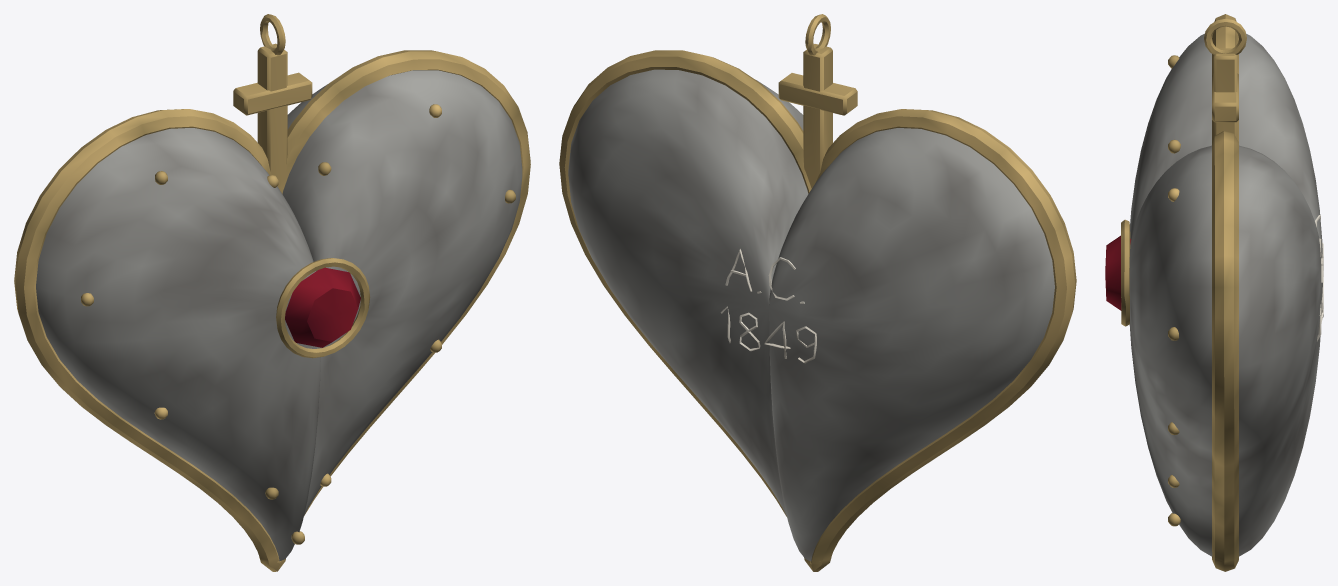
The model's file is reliquary-heart.glb.
3 views of the same model, side by side, from view 1: azimuth 30°, elevation 25°; view 2: azimuth 150°, elevation 25°; view 3: azimuth 270°, elevation 25° (orthographic).
Visible parts, largest first — view 1: reliquary-heart; view 2: reliquary-heart; view 3: reliquary-heart.
Boxes of the visible parts, x1,y1,x2,y2 form: reliquary-heart: [14, 14, 530, 571]; reliquary-heart: [559, 14, 1076, 571]; reliquary-heart: [1105, 14, 1323, 571].
Bounding box in the file's own units: 0.104 × 0.1075 × 0.0385.
